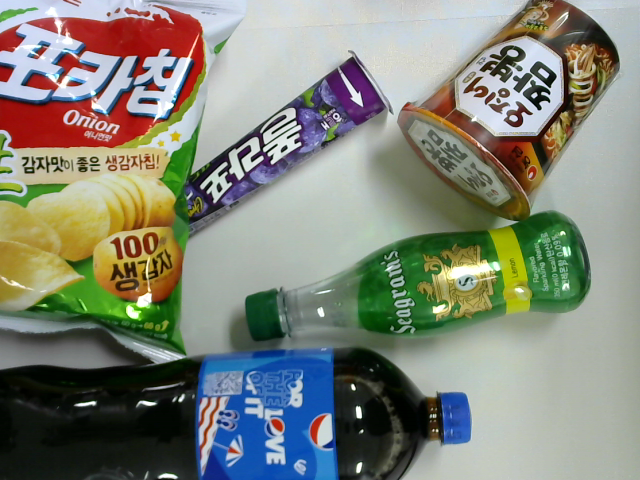Ojjam: (394, 1, 624, 226)
Pepsi_Cola_1.5L: (1, 347, 472, 480)
Pocachip_Onion: (1, 1, 248, 368)
Polapo_Grape: (162, 47, 394, 241)
Seagram_Lemon_Carbonated_Water: (242, 212, 596, 333)
